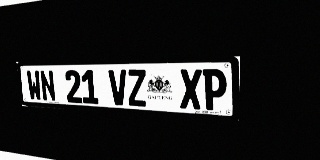1: (80, 70, 99, 104)
2: (64, 70, 82, 103)
N: (39, 70, 56, 102)
P: (203, 69, 227, 111)
V: (108, 70, 128, 106)
W: (26, 70, 42, 101)
X: (179, 69, 202, 110)
Z: (127, 69, 147, 107)
